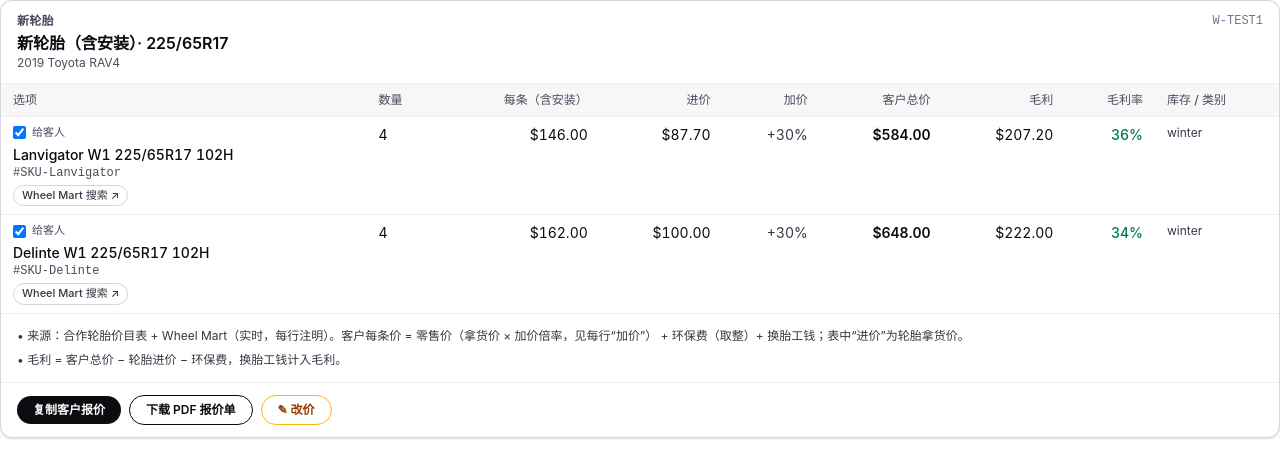
Scenario: quote card › lets staff type the agreed prices and save them
This screenshot has width=1280, height=456.
Step 1. Click the button "✎ 改价" → point(296, 410), box [260,395,332,425]
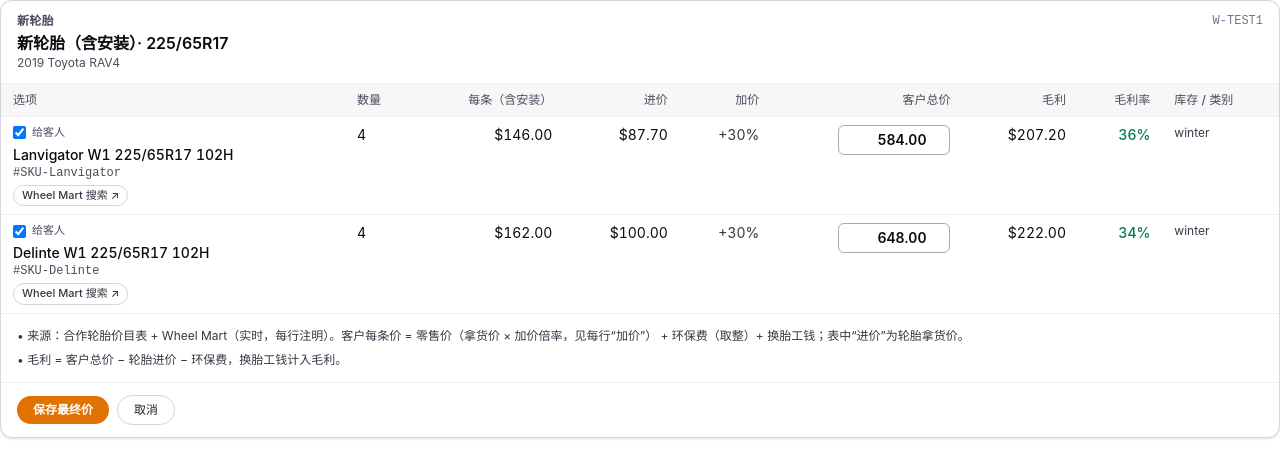
Step 2. Replace the text in the number field named "最终价 Lanvigator" with "520" → point(894, 140), box [838,125,950,155]
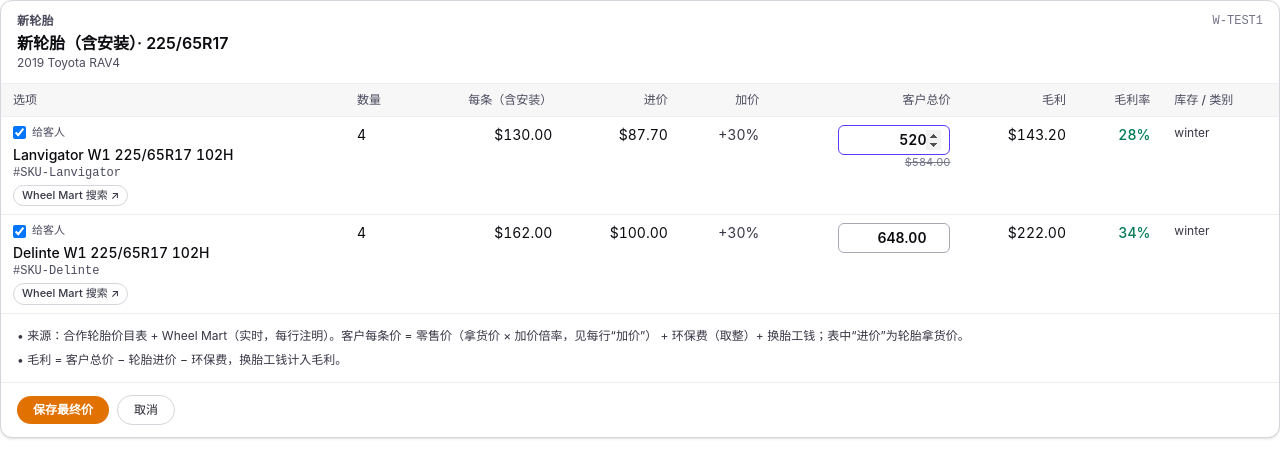
Check: the text "$584.00" is shown, box [905,155,950,169]
Step 3. Click the button "保存最终价" → point(63, 410), box [17,396,109,424]
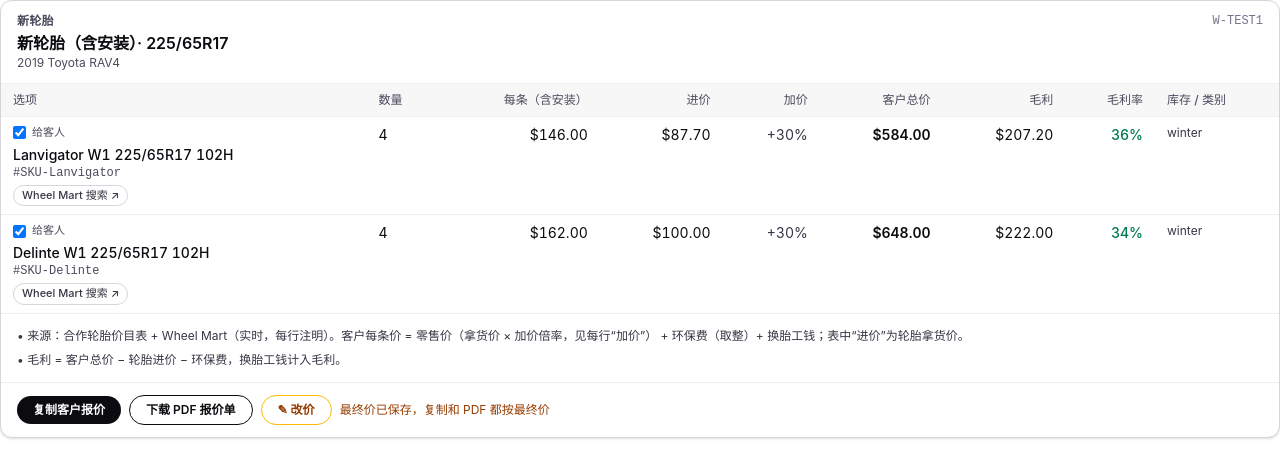
Check: the text "最终价已保存，复制和 PDF 都按最终价" is shown, box [340,402,550,418]
